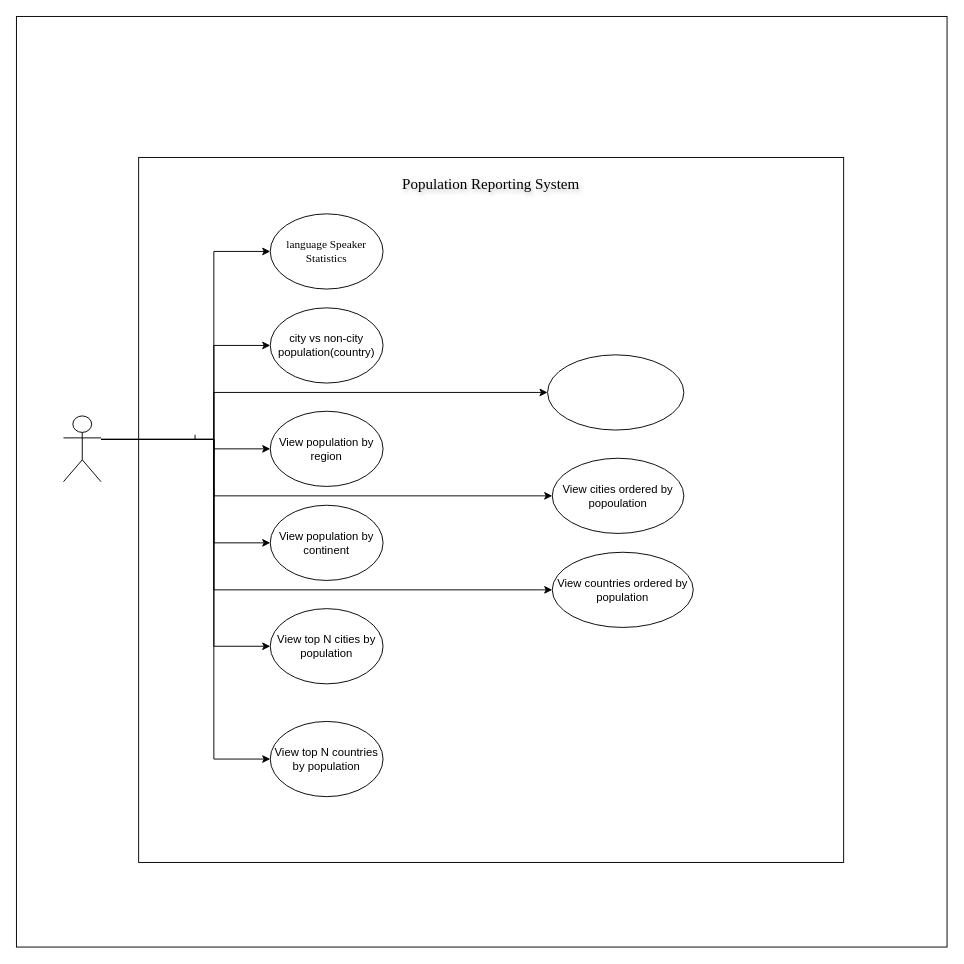
The diagram is 964 pixels wide and 964 high, and some of its shapes have lost their labels. The shapes that lost their labels are listed below. From the top down, each one's centre as x and y in pixels, then its label:
At pixel 615 392: "View capital cities ordered by population".
At pixel 82 448: "Actor".
